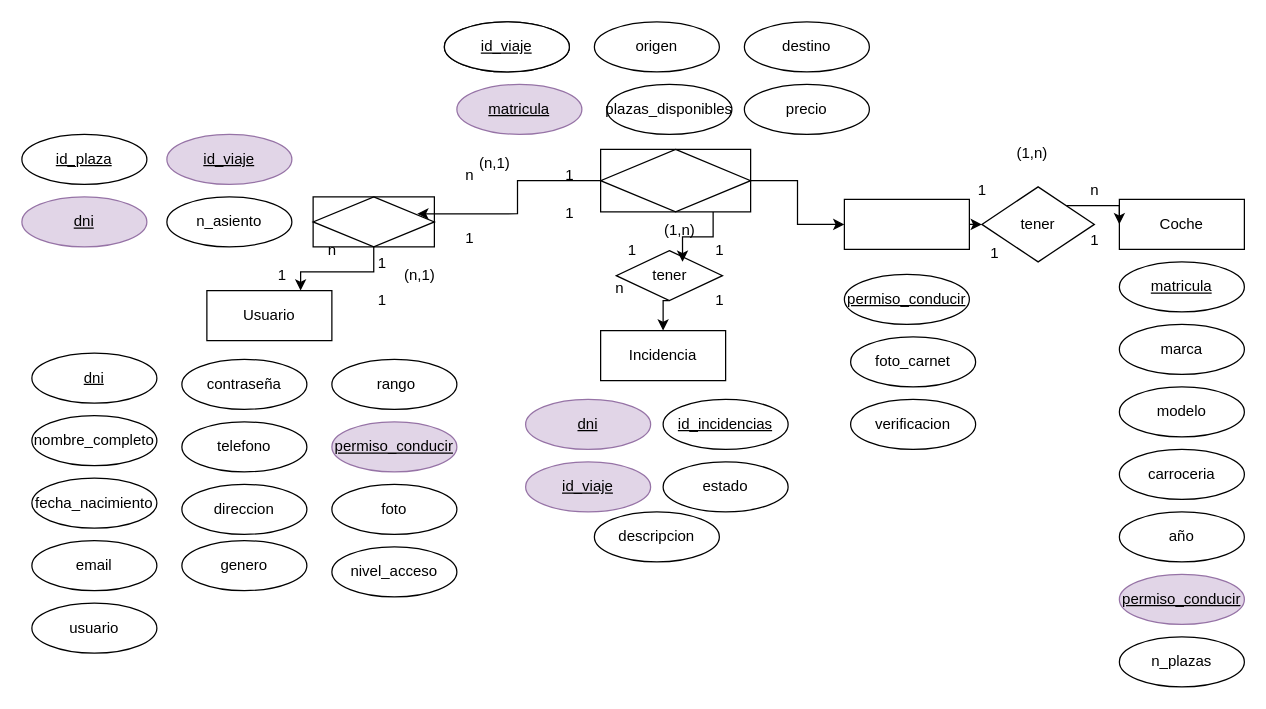
Image size: 1266x709. Some labels were removed from this diagram. Here are the shapes that lost their labels. From the top down, the centre of each, then its label:
(x=675, y=180): viajes
(x=373, y=221): plazas
(x=906, y=223): Conductor
